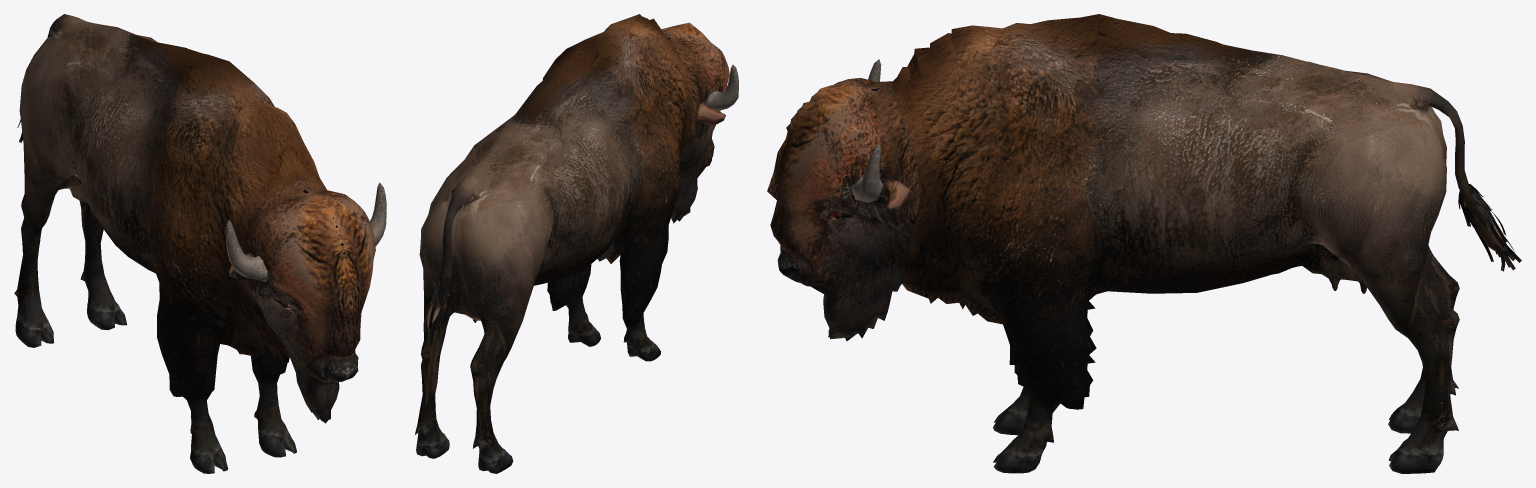
The model's file is yack.glb.
3 renders of one model, left to right at view 1: azimuth 30°, elevation 25°; view 2: azimuth 150°, elevation 25°; view 3: azimuth 270°, elevation 25°, orthographic. The views are drawn at different scales.
Visible parts, largest first — view 1: sm_4_0_0_4, sm_3_0_0_3, sm_2_0_0_0, sm_5_0_0_5; view 2: sm_4_0_0_4, sm_3_0_0_3, sm_2_0_0_0; view 3: sm_4_0_0_4, sm_3_0_0_3, sm_5_0_0_5.
Boxes of the visible parts, bbox=[...] form: sm_4_0_0_4: bbox=[14, 14, 326, 473]; sm_3_0_0_3: bbox=[229, 180, 375, 423]; sm_2_0_0_0: bbox=[225, 219, 267, 281]; sm_5_0_0_5: bbox=[370, 182, 386, 245]; sm_4_0_0_4: bbox=[415, 14, 692, 473]; sm_3_0_0_3: bbox=[661, 22, 729, 223]; sm_2_0_0_0: bbox=[705, 64, 738, 110]; sm_4_0_0_4: bbox=[891, 14, 1521, 473]; sm_3_0_0_3: bbox=[767, 78, 921, 341]; sm_5_0_0_5: bbox=[851, 143, 883, 202].
Size of the model in its own units: 0.9773 by 2.21 by 3.49.
Materials: 6 (5 with a texture image).
